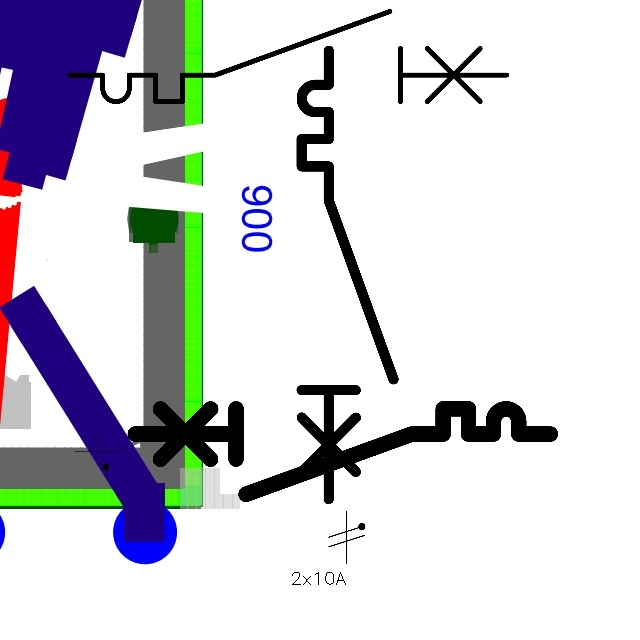interruptor_termomagnetico: (290, 39, 405, 510), (58, 0, 518, 113), (124, 398, 561, 505)
